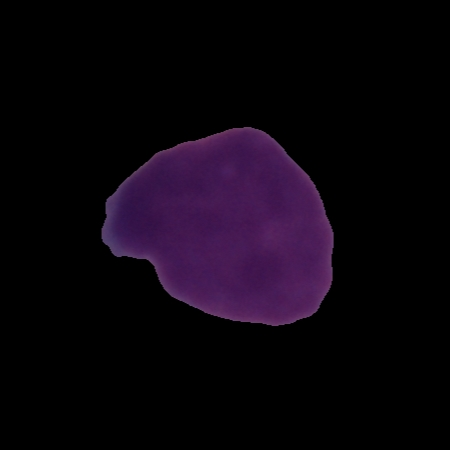ALL: (98, 122, 338, 331)
